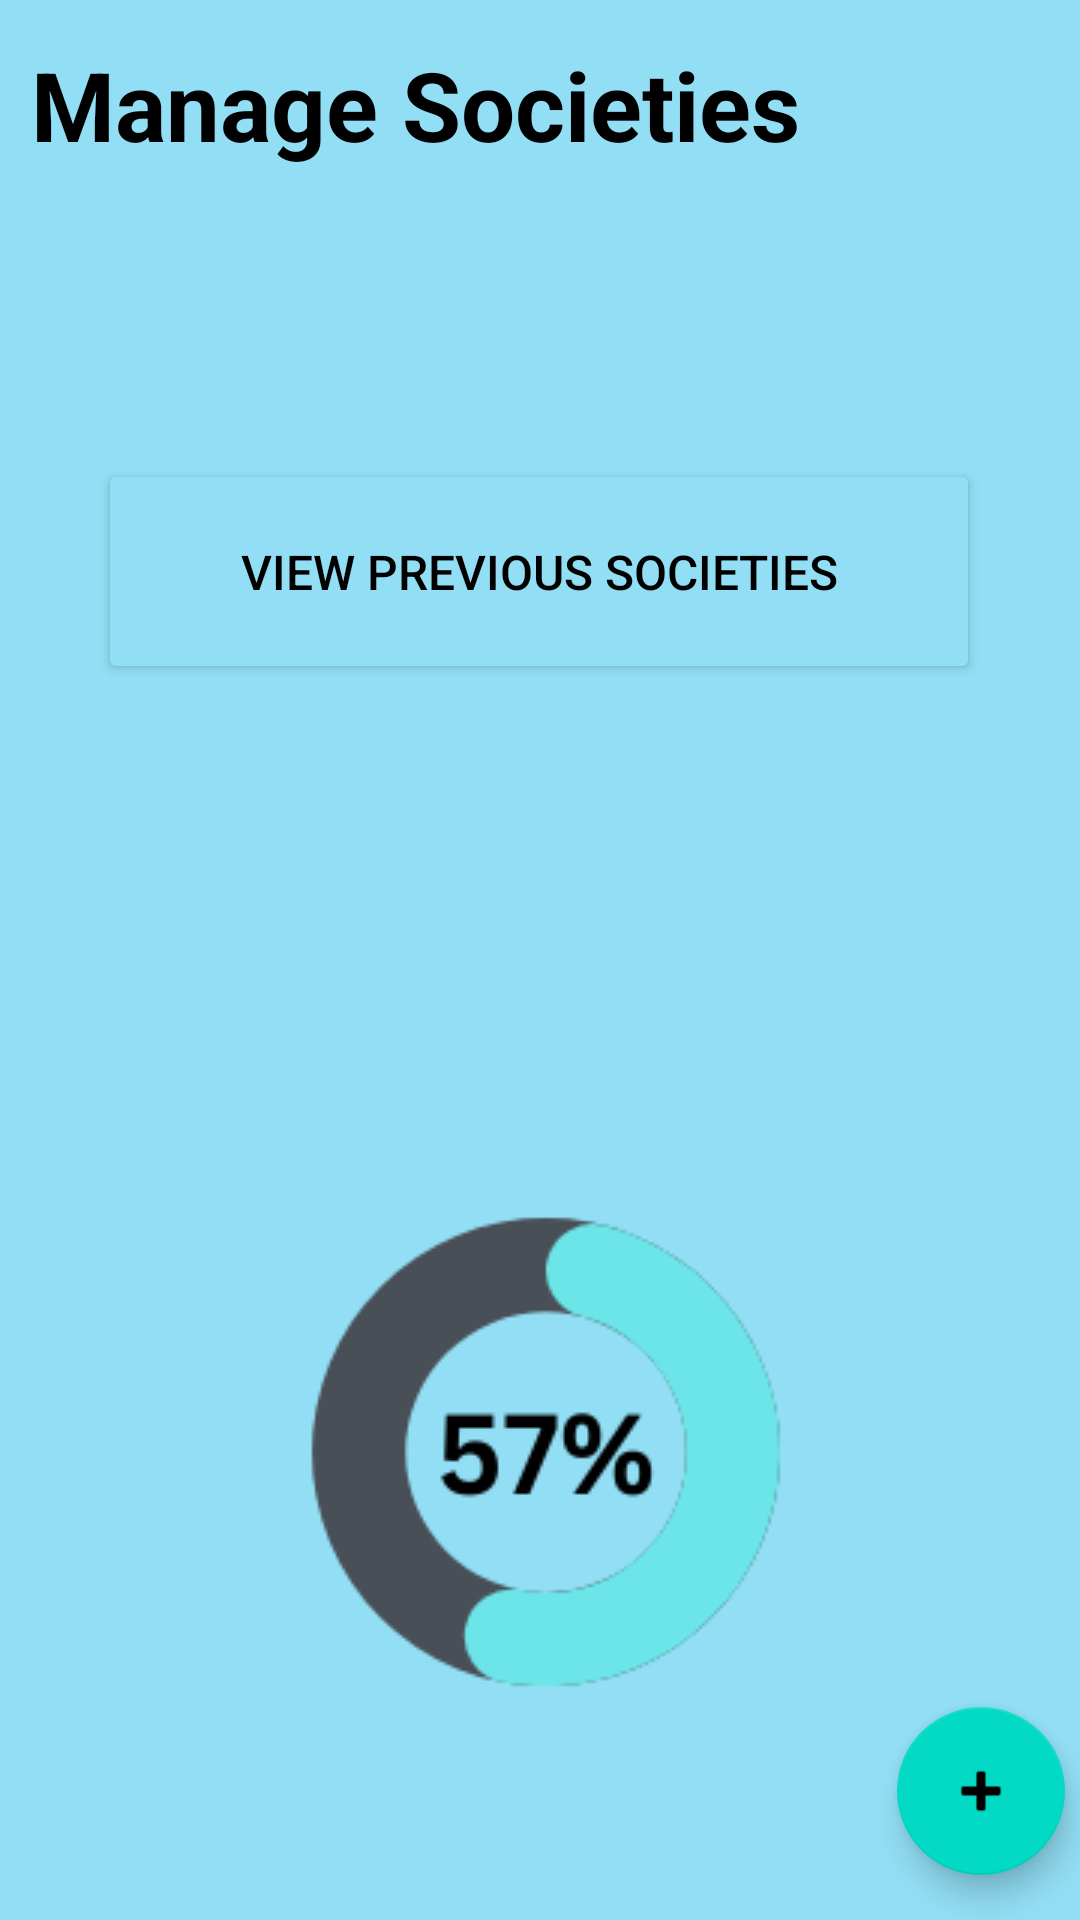

Icons on this 1080*1920 Android screen, each with the point to tap as (x=x, y=y):
add: (x=981, y=1791)
